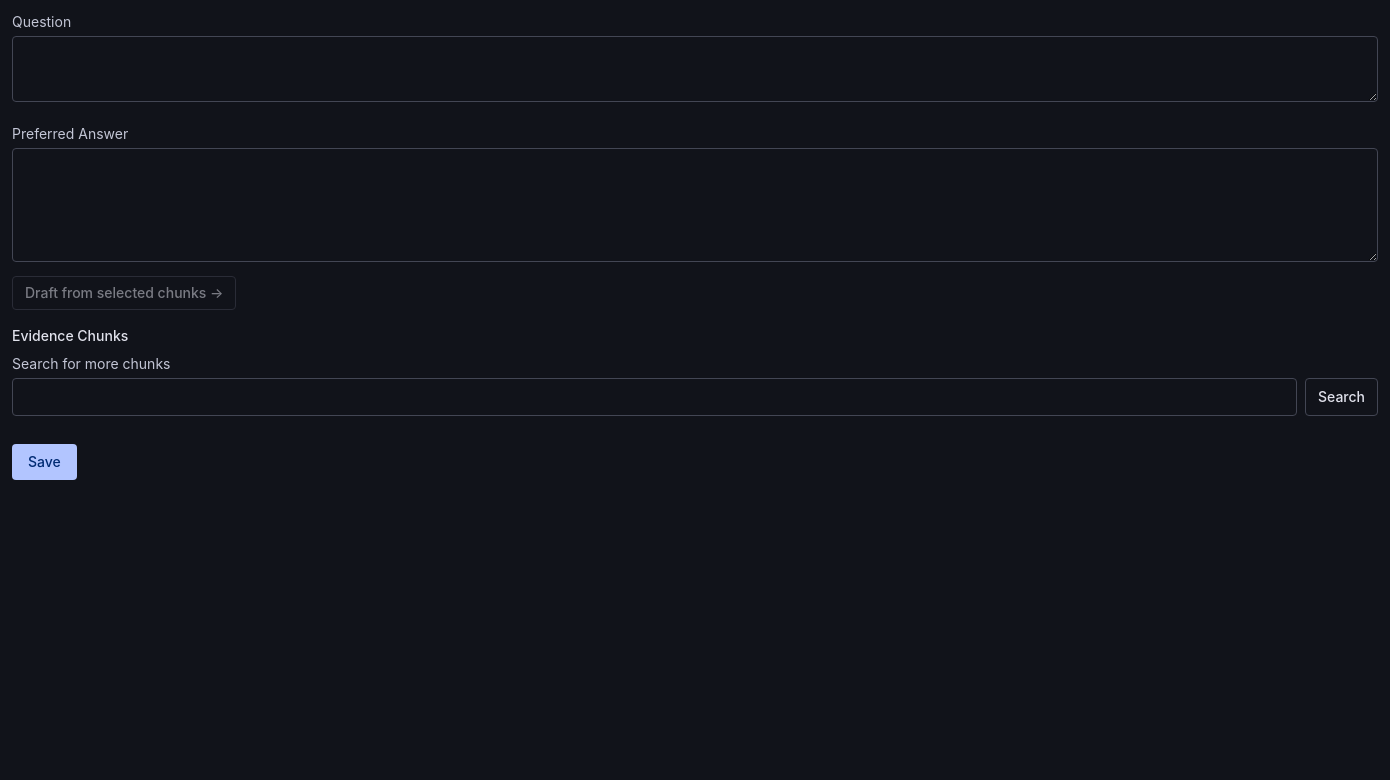
Test case: GoldenEntryEditor (026-golden-dataset US1) › blocks saving with an explanatory message when zero chunks are selected
Type "What is the notice period?" into the text box labelled "Question" at (695, 69), box [12,36,1378,102]
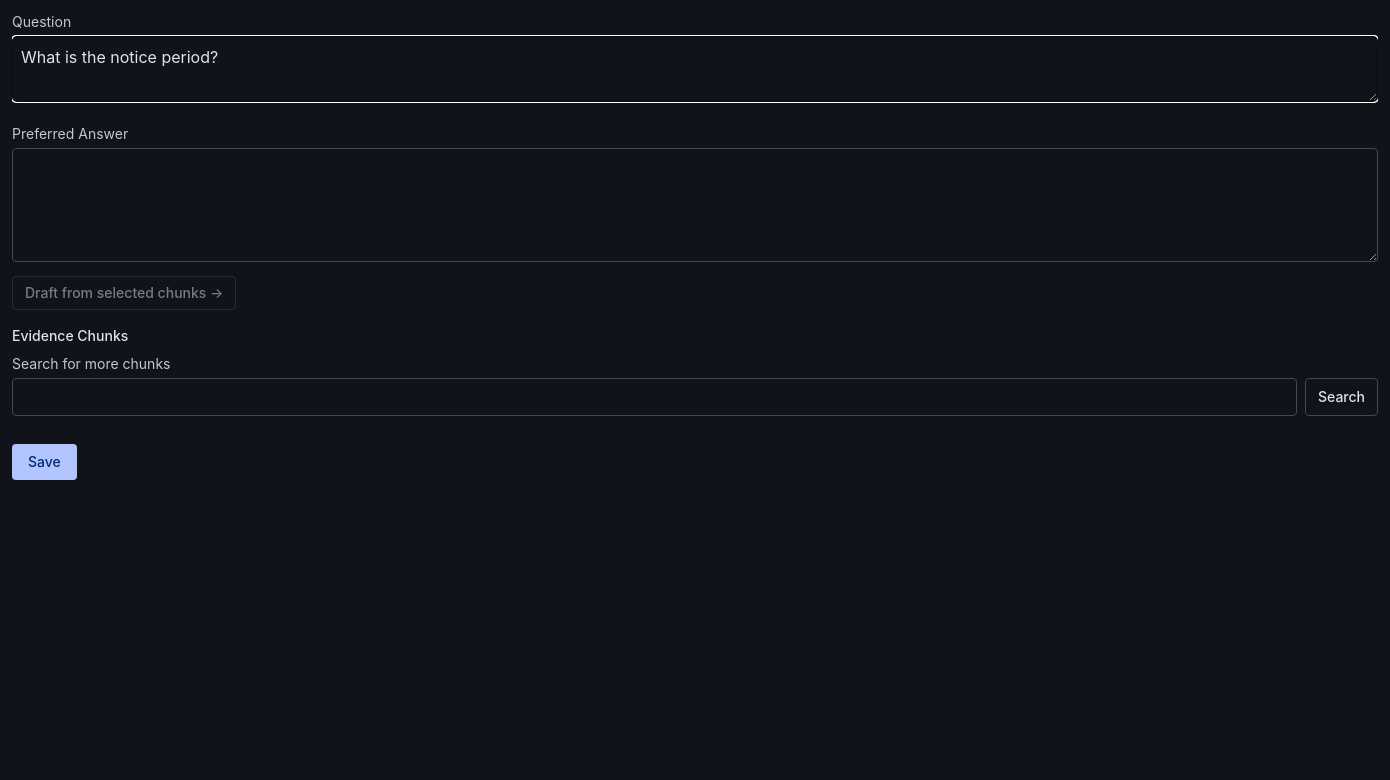
Type "30 days." into the text box labelled "Preferred Answer" at (695, 205), box [12,148,1378,262]
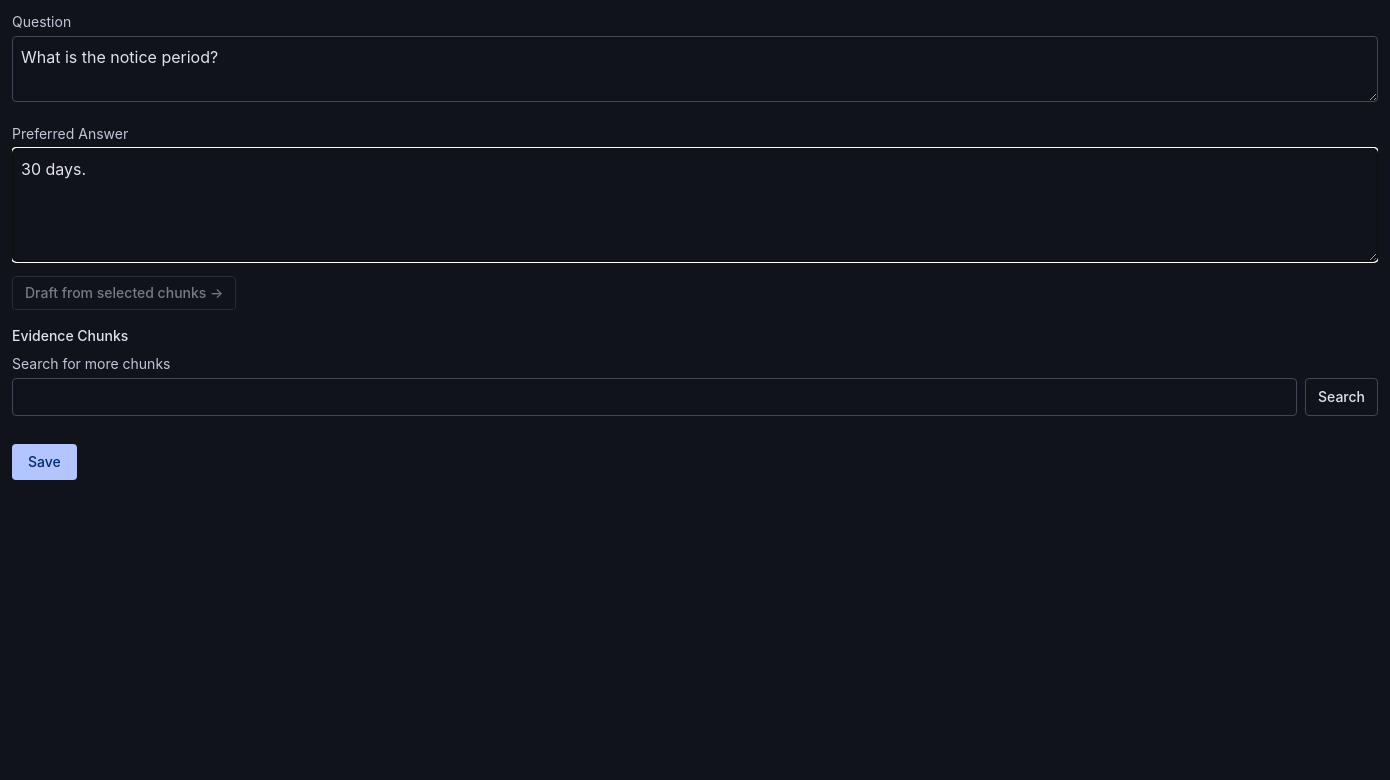
Click the button "Save" at (44, 462), box [12,444,77,480]
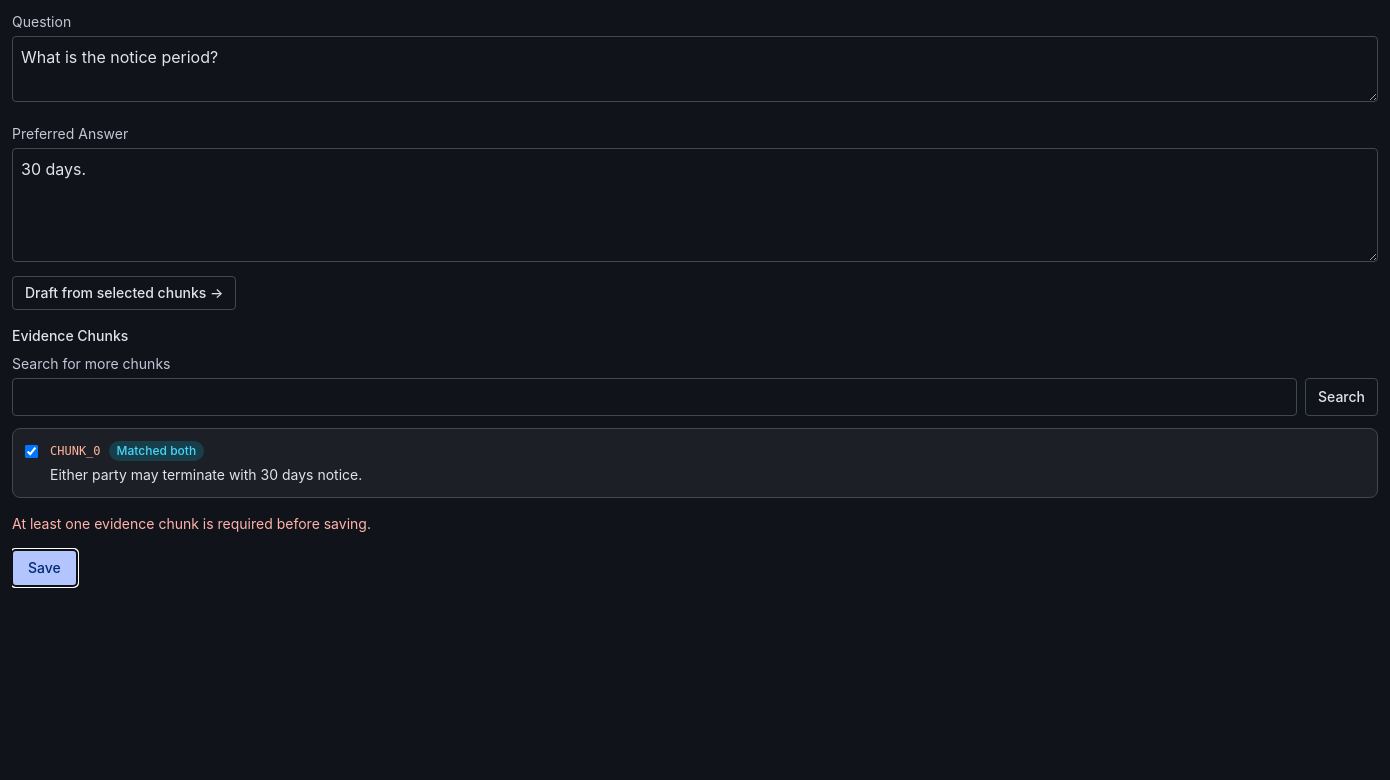
expect the text "At least one evidence chunk is required before saving." is shown: met, box [12,515,371,532]
